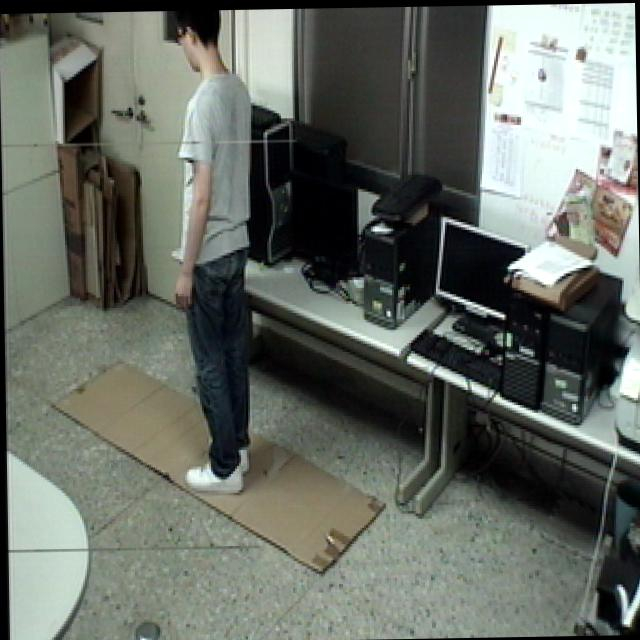stand: (158, 1, 267, 510)
